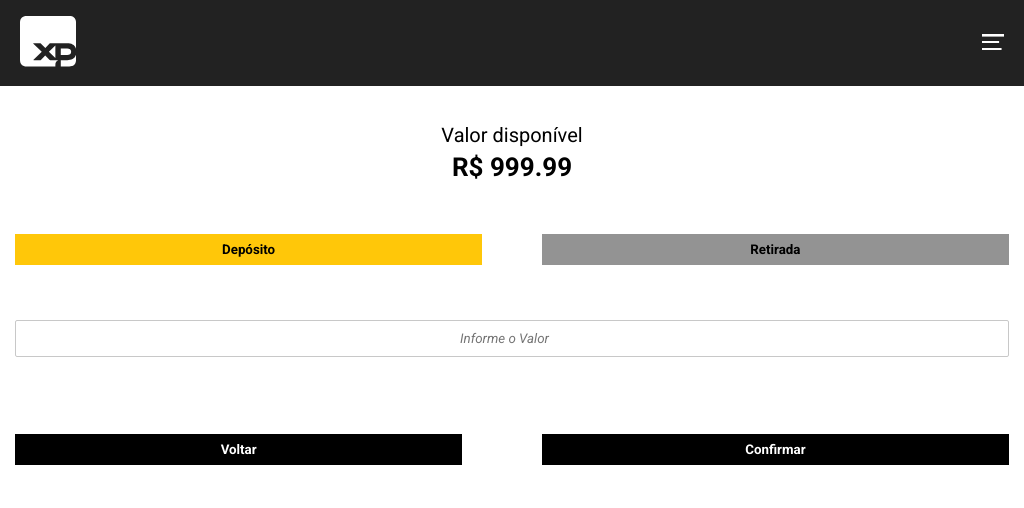
Test: Verifica se › Ao clicar no botão de voltar, é feito um redirecionamento para a página inicial
Click the button "Voltar" at (239, 450), box left=15, top=434, right=462, bottom=465
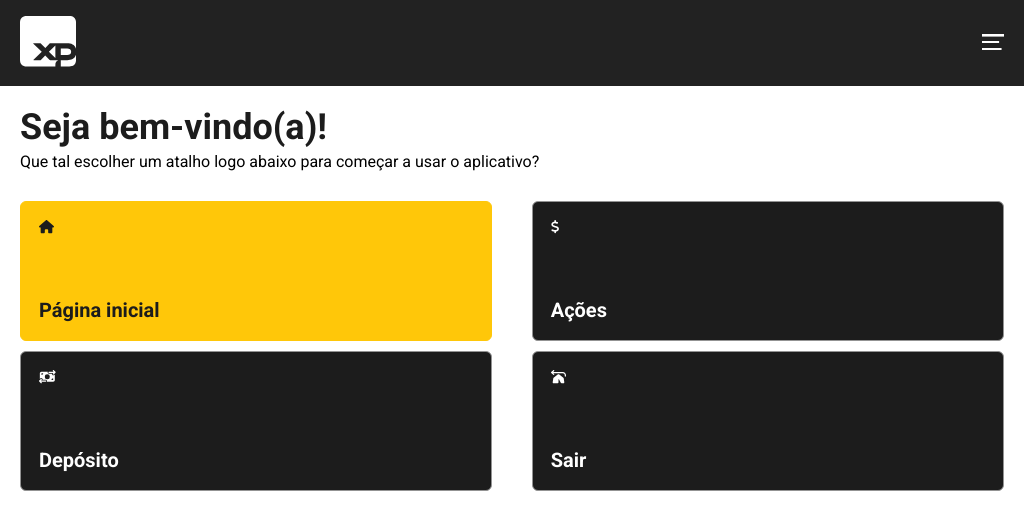
Expected: the heading "Seja bem-vindo(a)!" is shown, left=20, top=106, right=327, bottom=148
